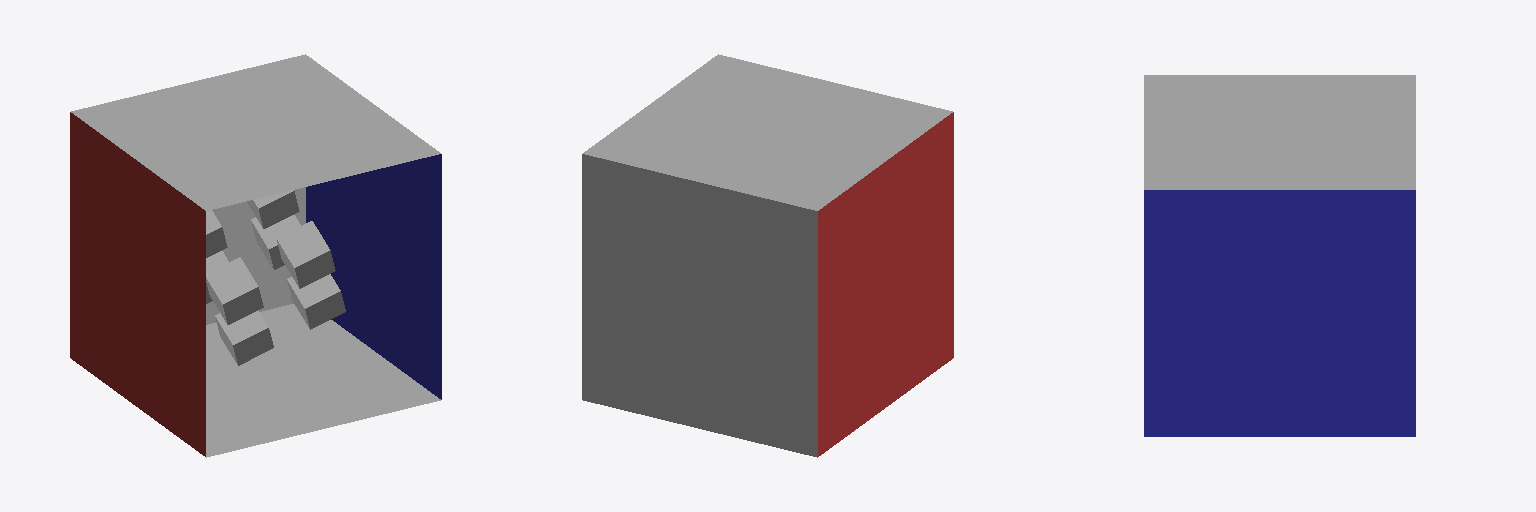
Rendered from jensen.obj.
3 views of the same model, side by side, from view 1: azimuth 30°, elevation 25°; view 2: azimuth 150°, elevation 25°; view 3: azimuth 270°, elevation 25° (orthographic).
Size of the model in its own units: 100 by 100 by 100.